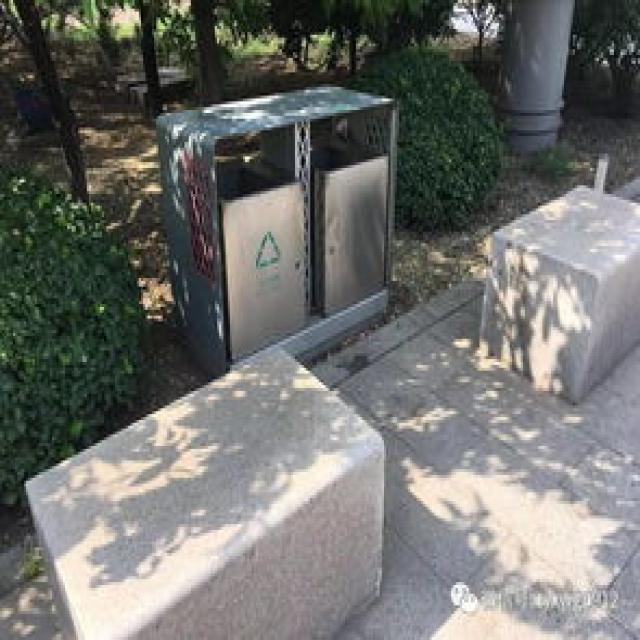garbage_bin: (154, 84, 393, 371)
